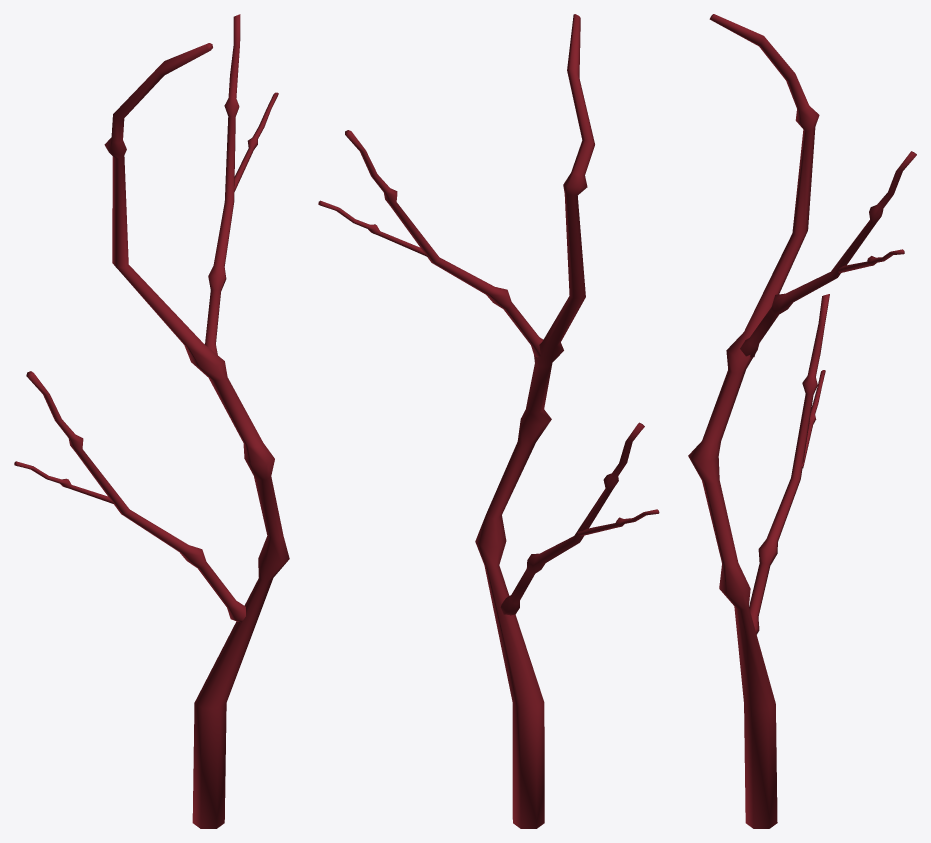
Rendered from stem07.fbx.
3 renders of one model, left to right at view 1: azimuth 30°, elevation 25°; view 2: azimuth 150°, elevation 25°; view 3: azimuth 270°, elevation 25°, orthographic.
Parts seen in each view (by area): view 1: stem07; view 2: stem07; view 3: stem07.
Boxes of the visible parts, left/top/right/bottom form: stem07: left=14, top=14, right=289, bottom=828; stem07: left=318, top=14, right=659, bottom=828; stem07: left=688, top=14, right=916, bottom=828.
Bounding box in the file's own units: 387 × 979 × 255.
